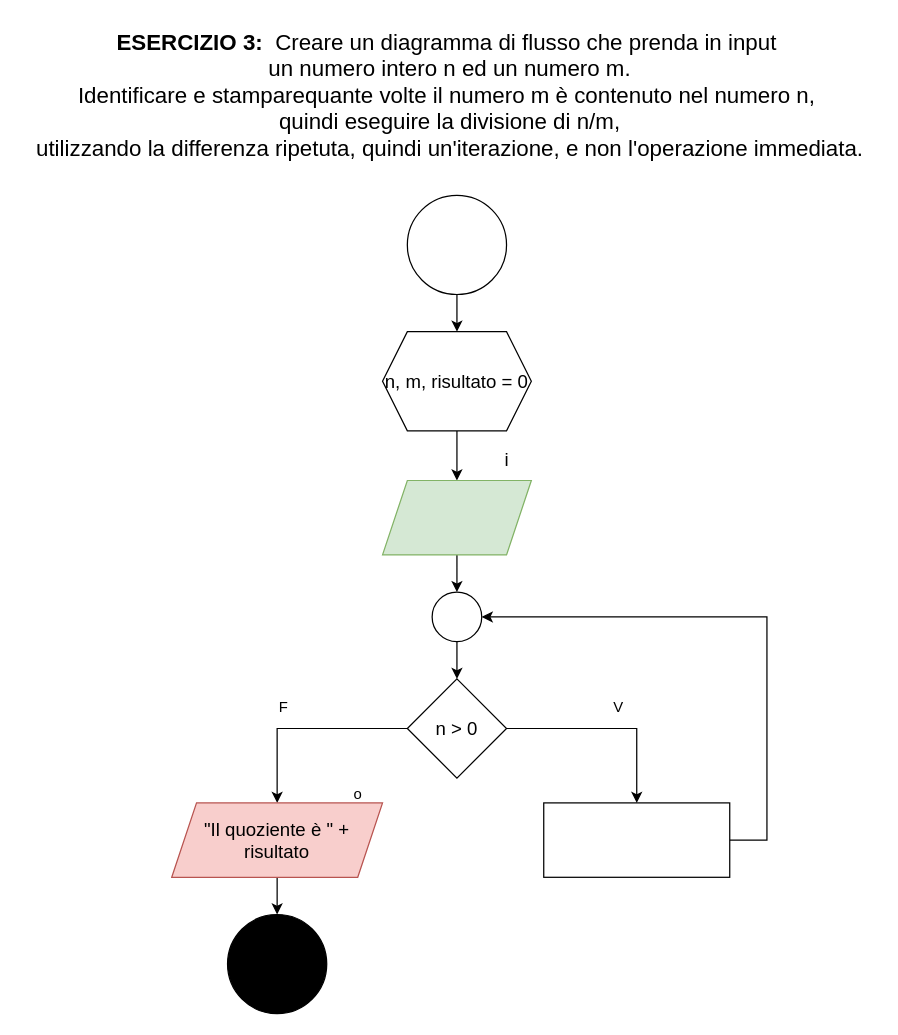
This 898x1035 diagram has some shape labels left out. The centre of each missing label's shape, as x and y in pixels:
n = n - m risultato = risultato +1: pixel 636 839
n, m: pixel 456 517
